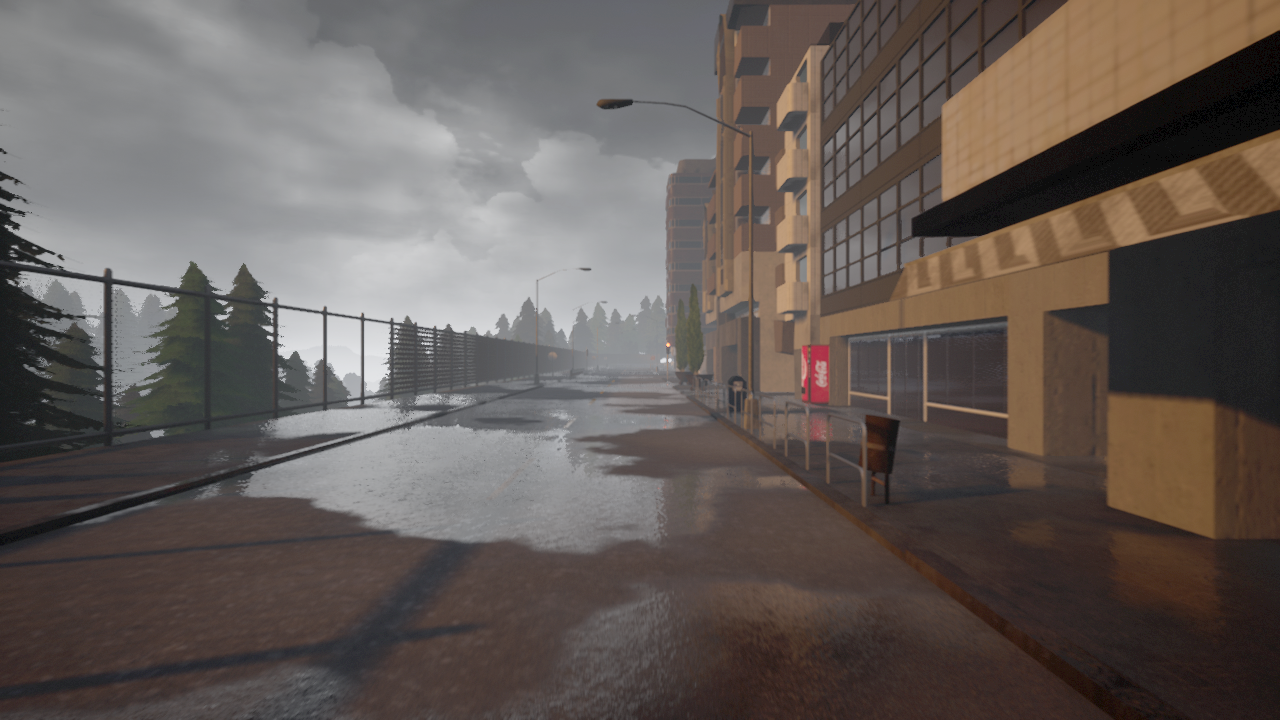red: (664, 342, 672, 355)
